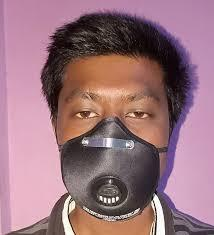mask: (60, 110, 164, 224)
